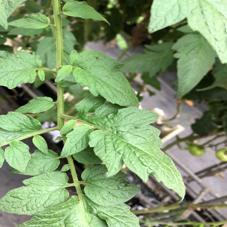Healthy: (87, 106, 186, 203), (72, 49, 140, 108), (0, 170, 70, 216), (61, 124, 95, 158), (4, 141, 31, 172)
